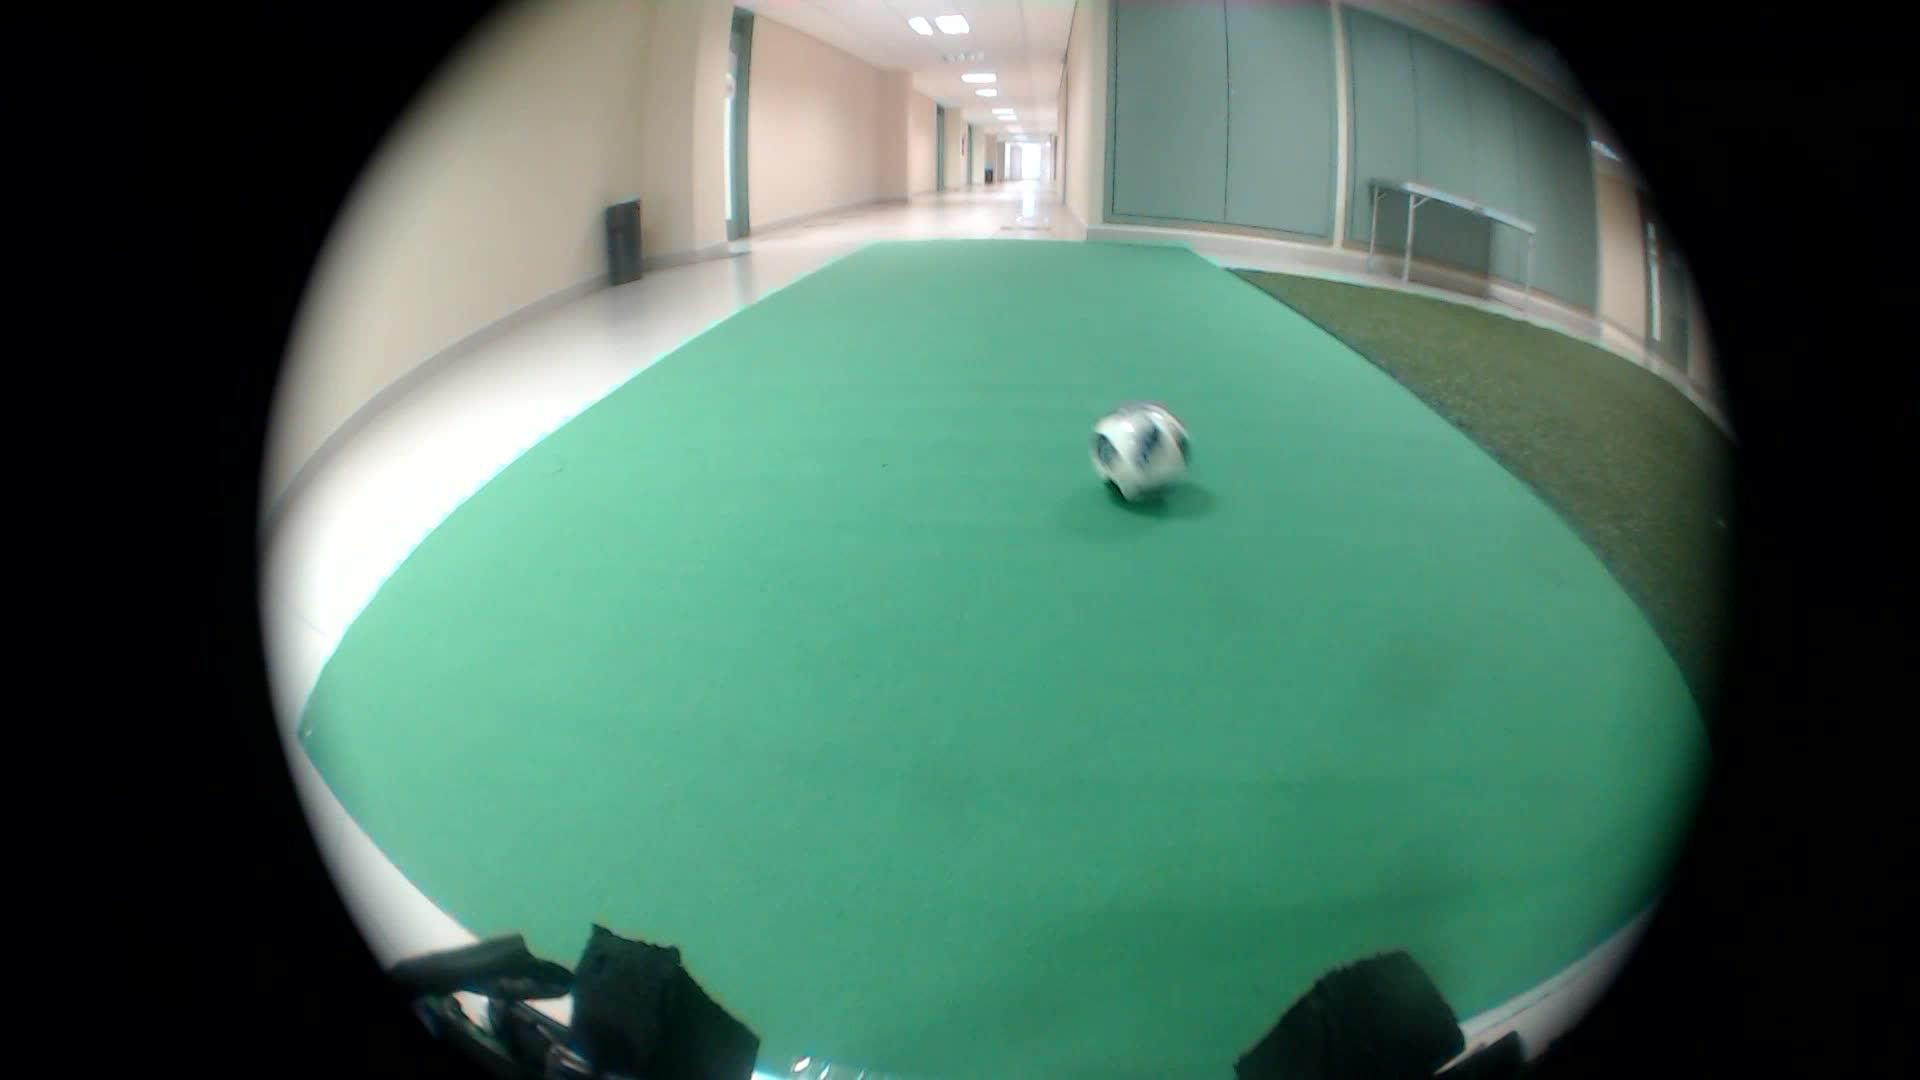ball: (1075, 392, 1195, 512)
